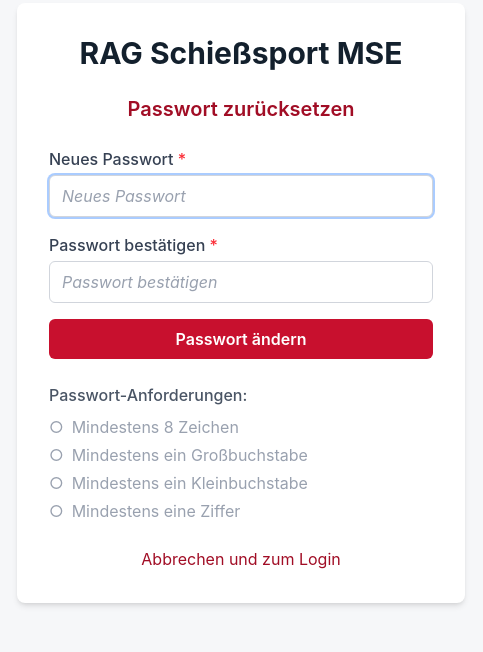
Test: ResetPasswordPage › Form Submission › should show error when passwords do not match
Type "Password1" into the password field labelled "Neues Passwort *". click: (241,196)
box: [49,175,433,217]
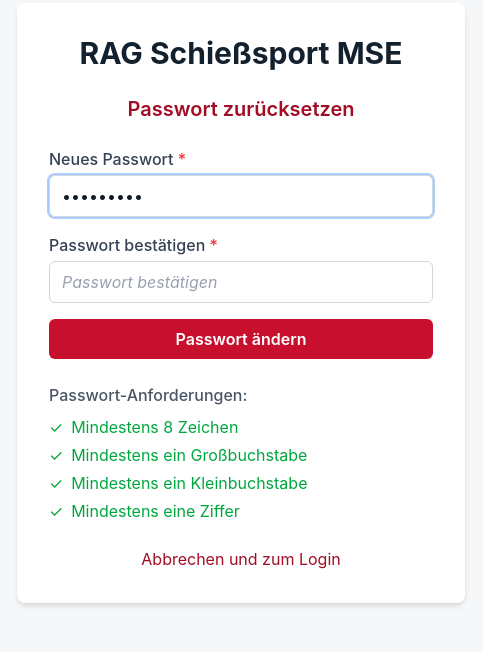
Type "Password2" into the password field labelled "Passwort bestätigen *". click: (241,282)
box: [49,261,433,303]
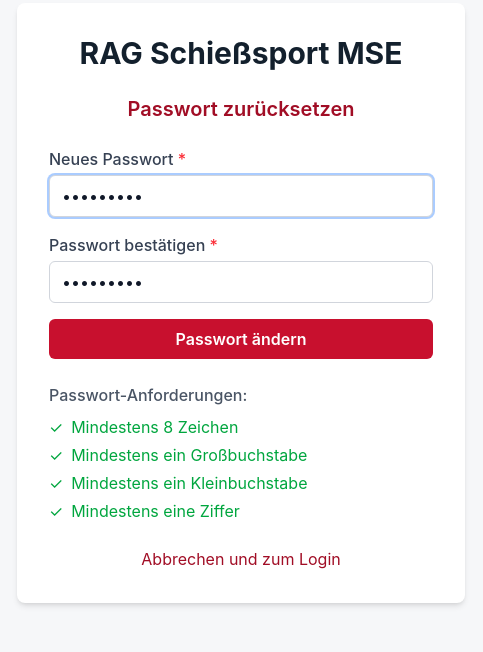
Click the button "Passwort ändern". click: (241,339)
box: [49,319,433,359]
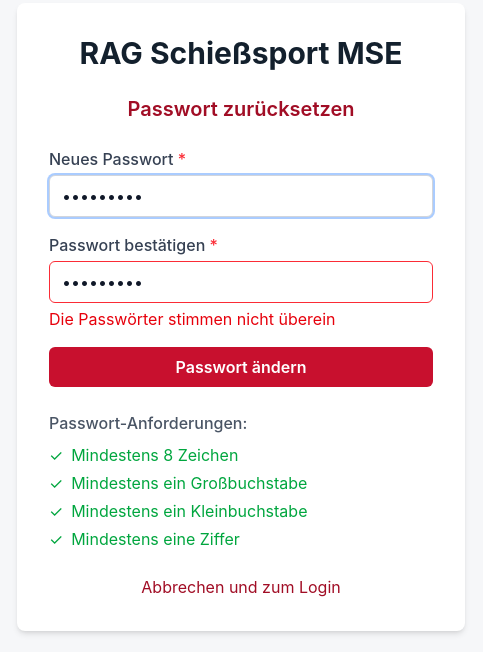
Result: the text "Die Passwörter stimmen nicht überein" is shown at [49,309,336,329]
